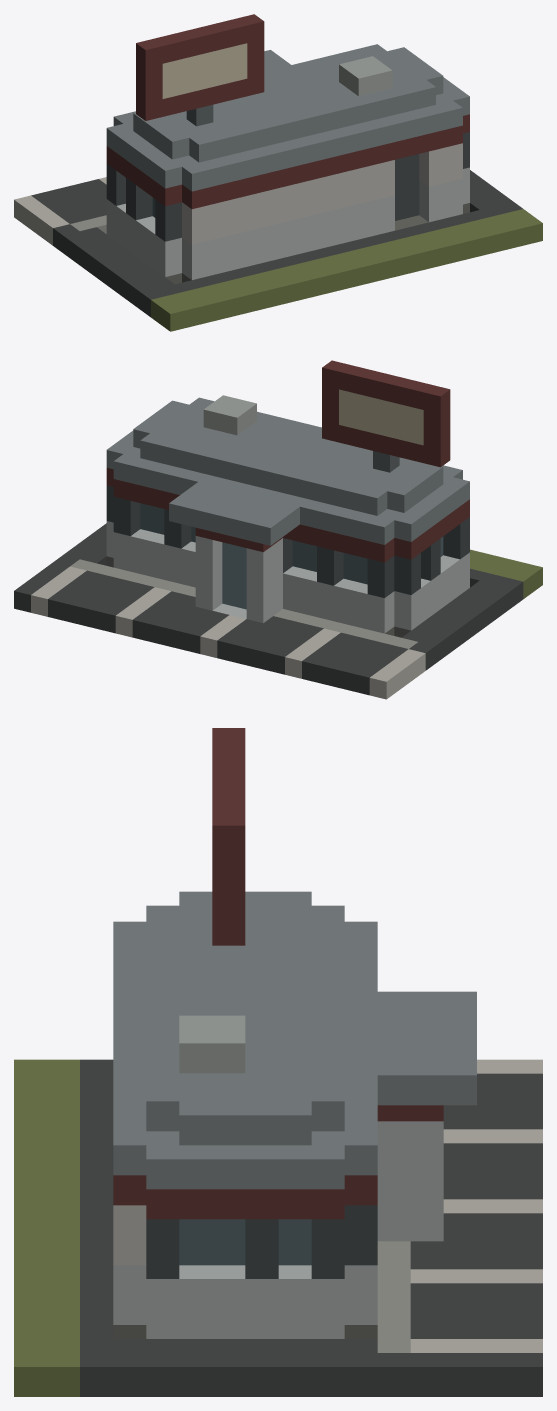
Rendered from Claude_diner.glb.
3 views of the same model, one above another, from view 1: azimuth 30°, elevation 25°; view 2: azimuth 150°, elevation 25°; view 3: azimuth 270°, elevation 25° (orthographic). The views are drawn at different scales.
Parts seen in each view (by area): view 1: Claude_diner; view 2: Claude_diner; view 3: Claude_diner.
Boxes of the visible parts, <box> form: Claude_diner: <box>14,14,542,331</box>; Claude_diner: <box>14,360,542,699</box>; Claude_diner: <box>14,728,542,1396</box>.
Size of the model in its own units: 11 by 6.5 by 8.
